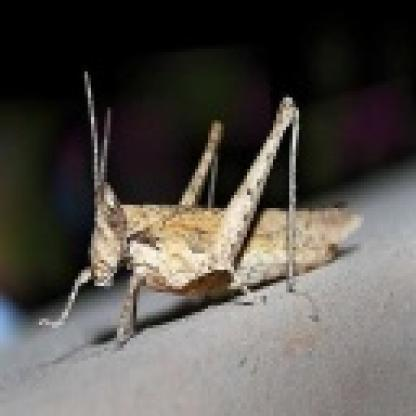grasshopper: (37, 68, 360, 343)
